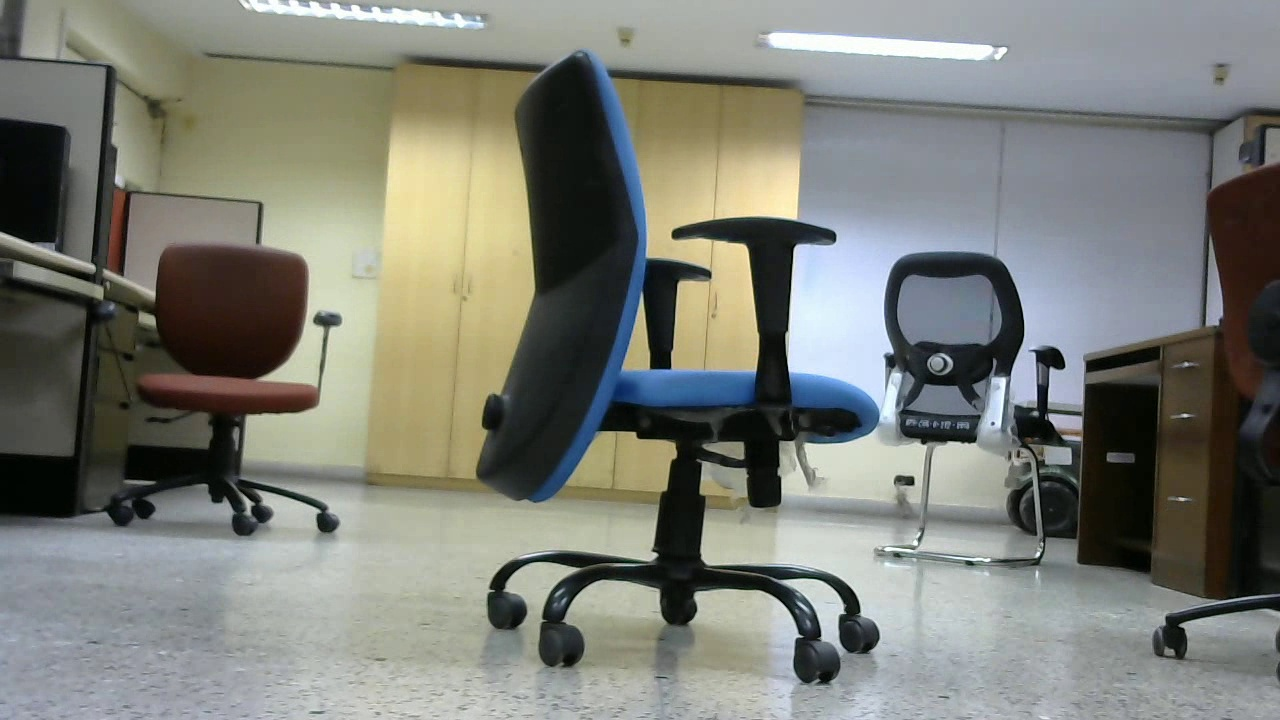chair: (474, 41, 886, 691), (112, 241, 340, 542), (861, 247, 1065, 576)
